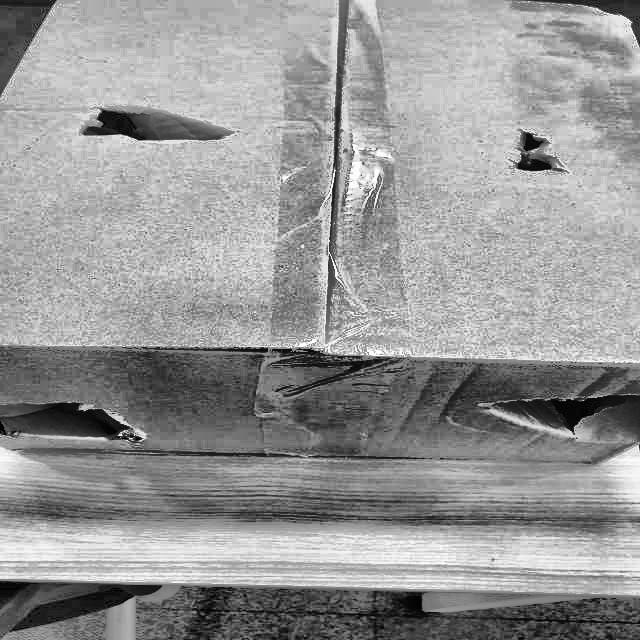box: (0, 0, 639, 477)
hole: (467, 387, 640, 437), (0, 392, 151, 446), (82, 98, 236, 148), (507, 130, 579, 179)
